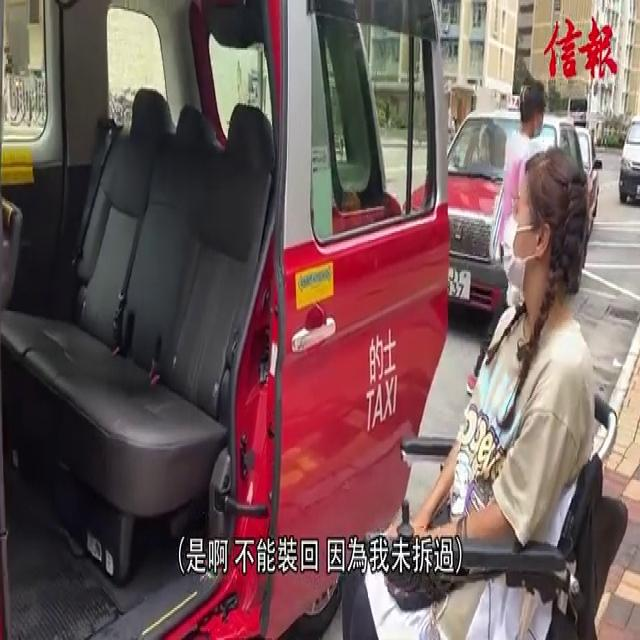wheelchairs: (368, 331, 634, 638)
